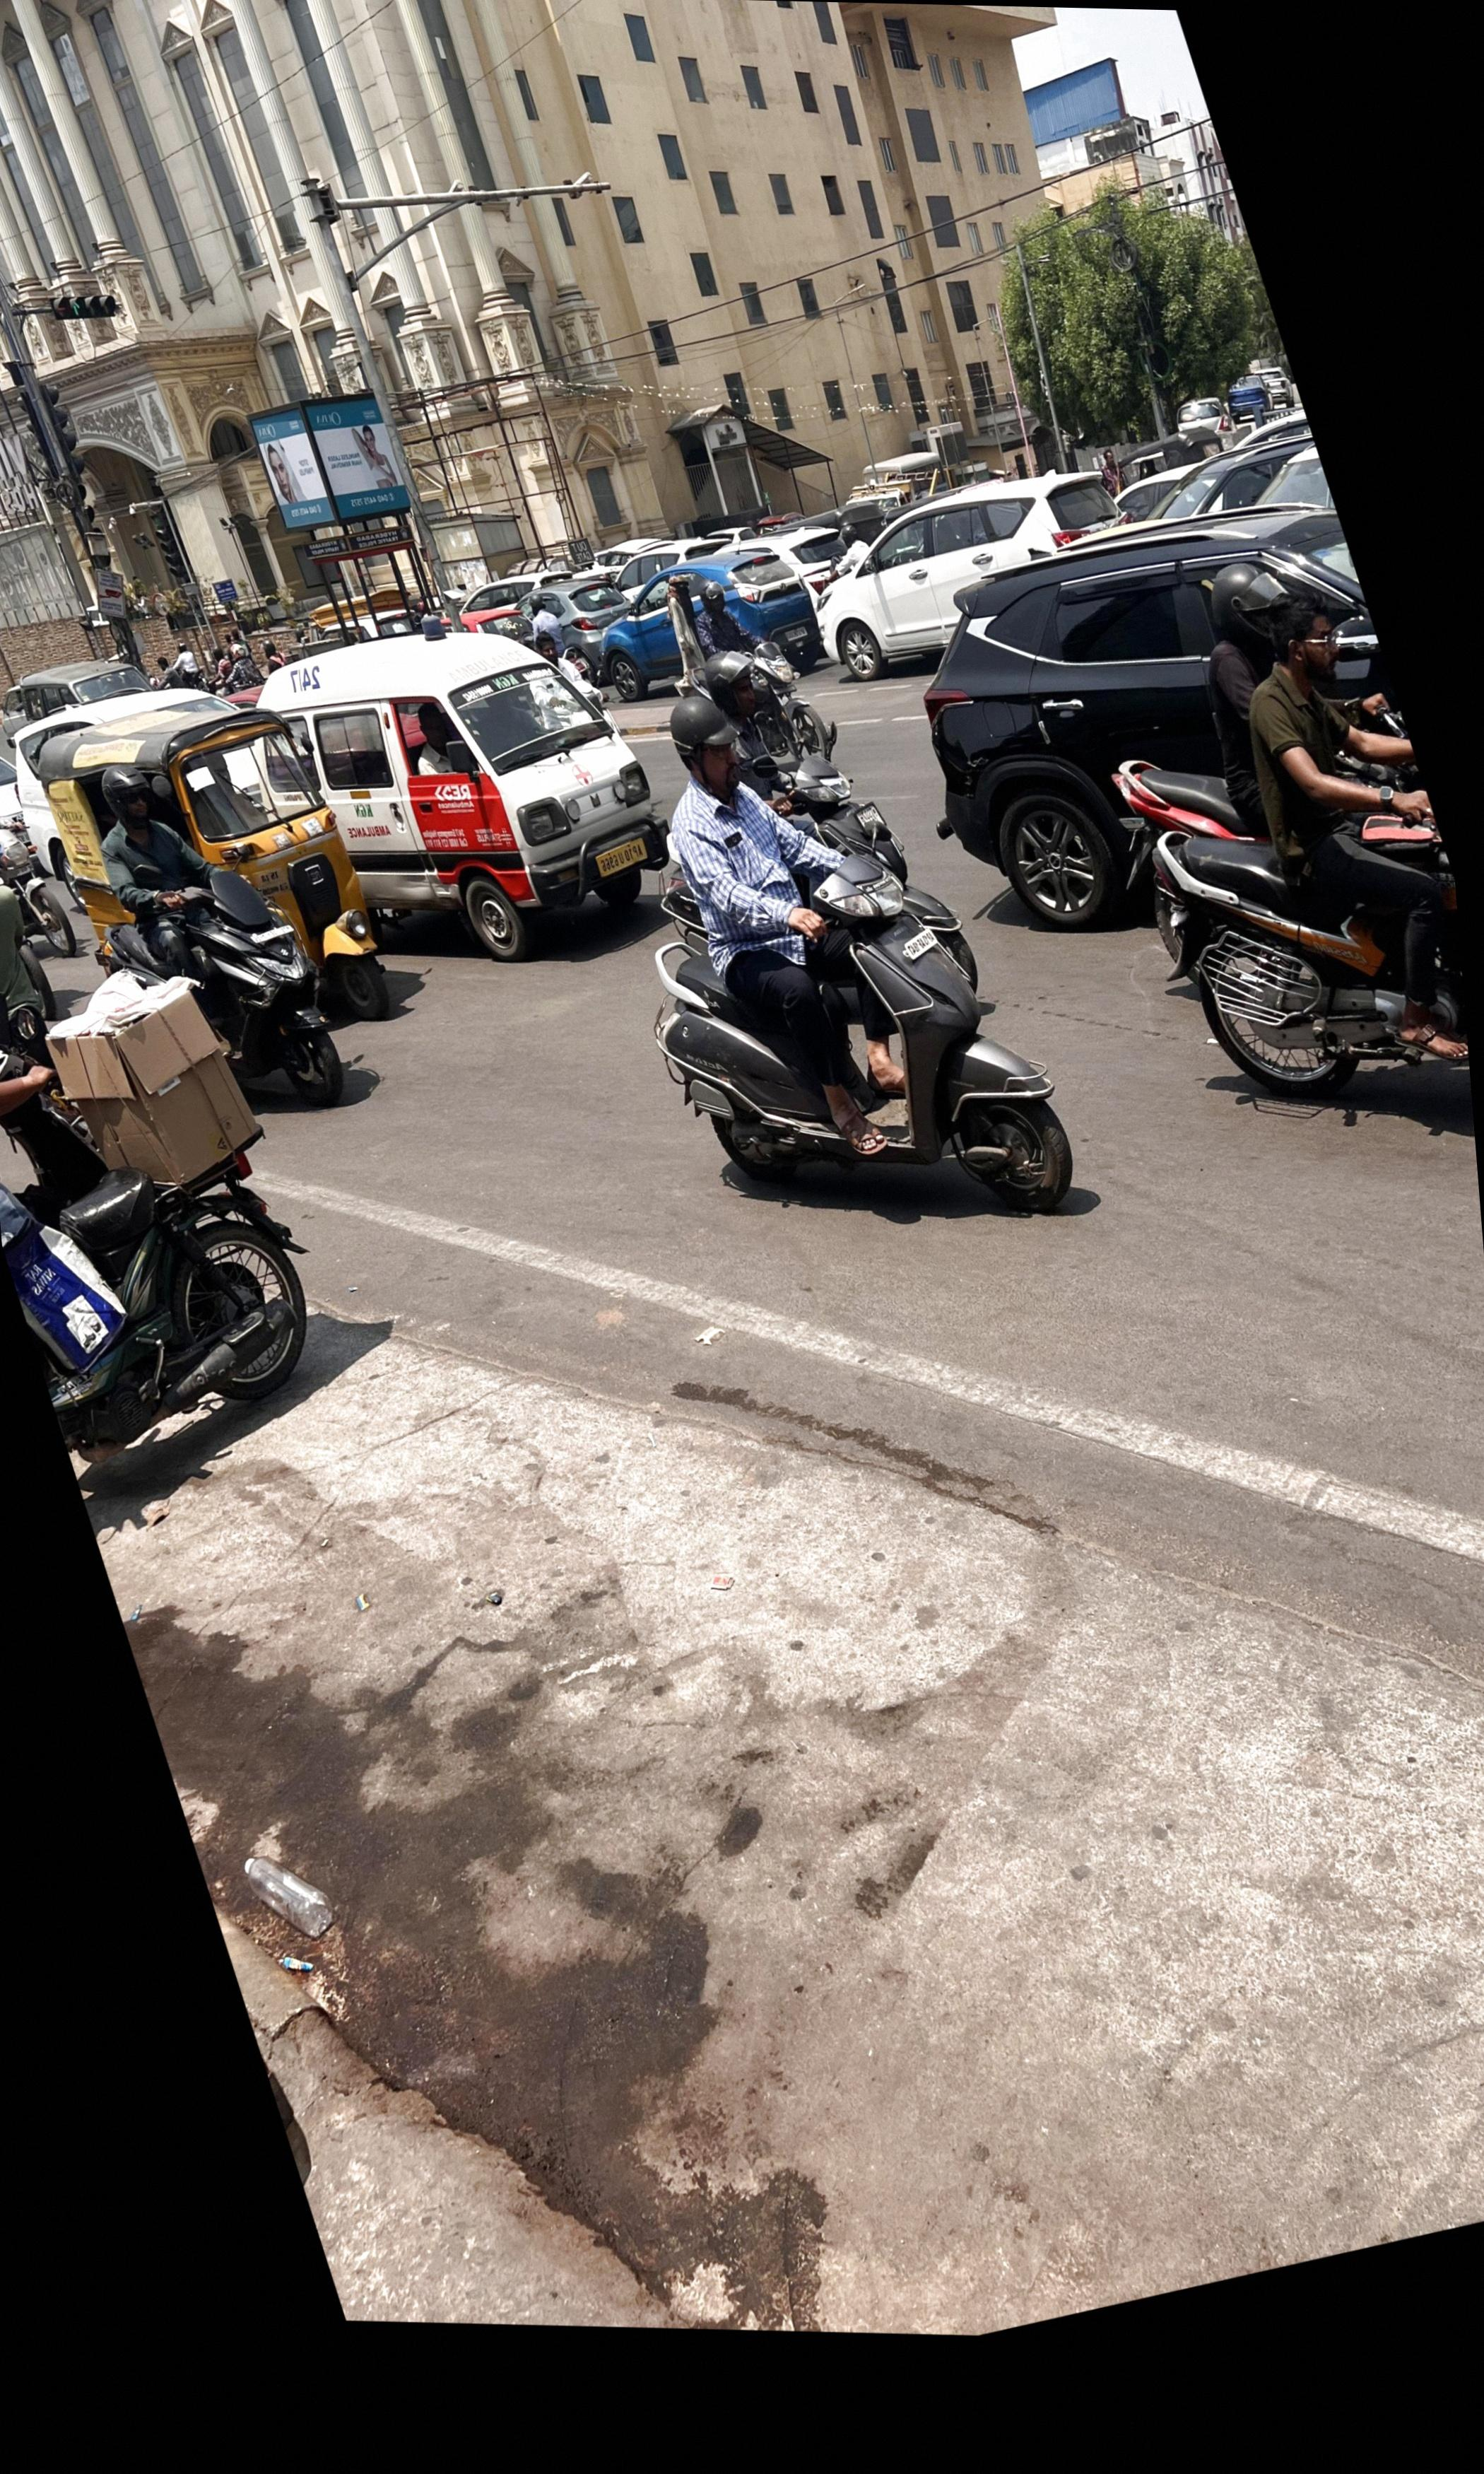ambulance: (256, 643, 668, 961)
